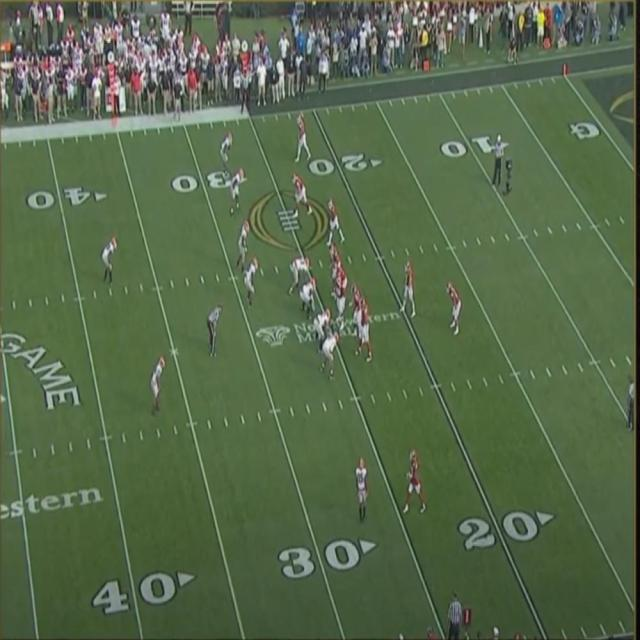center: (332, 270, 346, 317)
db: (356, 458, 369, 520), (104, 237, 117, 283), (153, 357, 164, 410), (220, 130, 232, 176), (231, 168, 243, 212)
lb: (245, 259, 257, 307), (237, 224, 248, 270)
qb: (403, 260, 415, 320)
skill: (409, 451, 425, 512), (446, 282, 460, 334), (328, 200, 341, 246), (293, 173, 307, 214), (296, 114, 307, 156)
